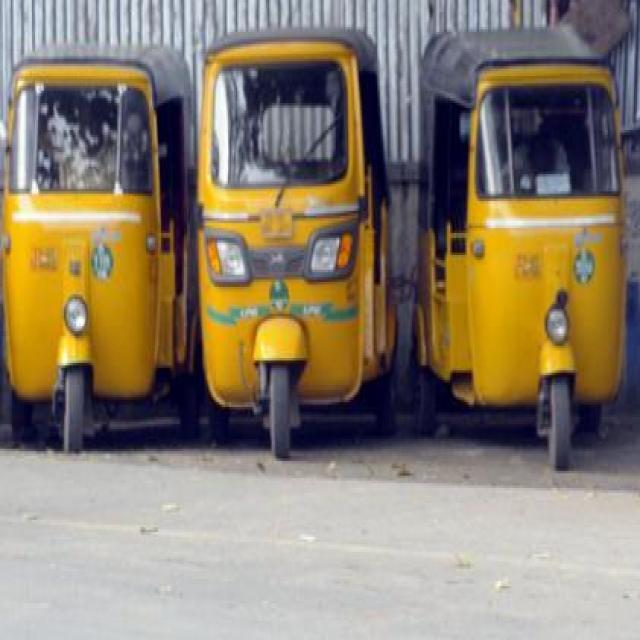auto_front: (411, 24, 633, 483), (3, 27, 205, 505), (194, 34, 400, 462)
